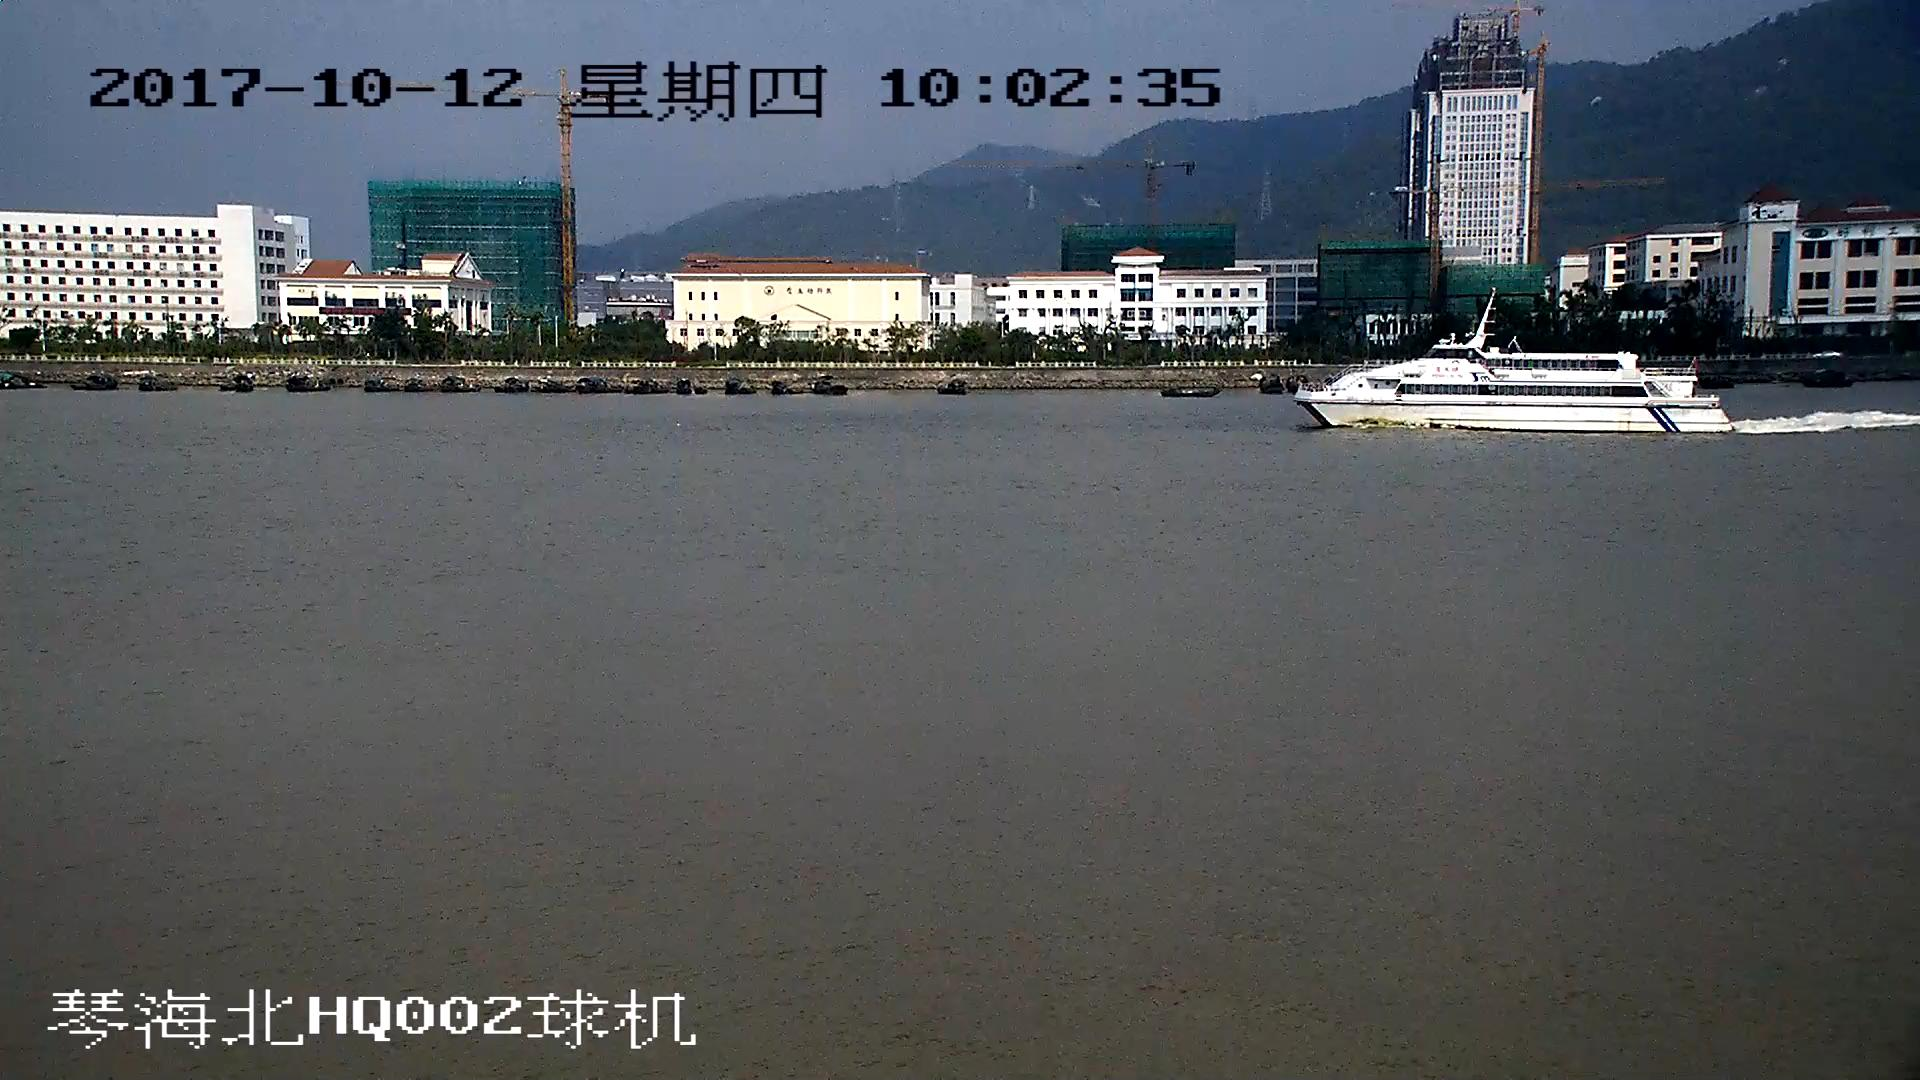passenger ship: (1298, 287, 1735, 432)
